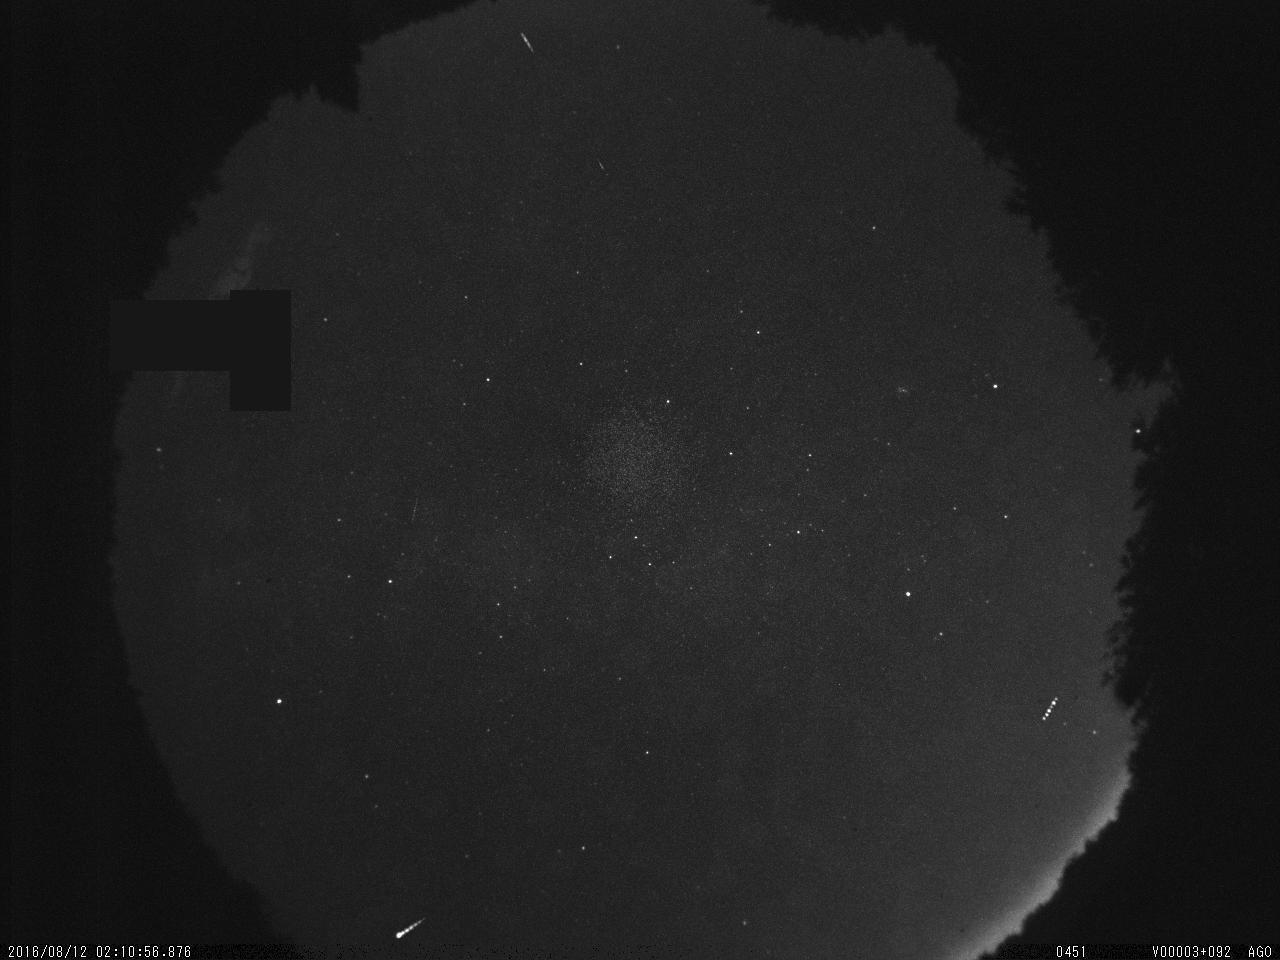meteor: (384, 909, 434, 942)
satelite: (1027, 688, 1063, 727), (519, 25, 543, 61)
